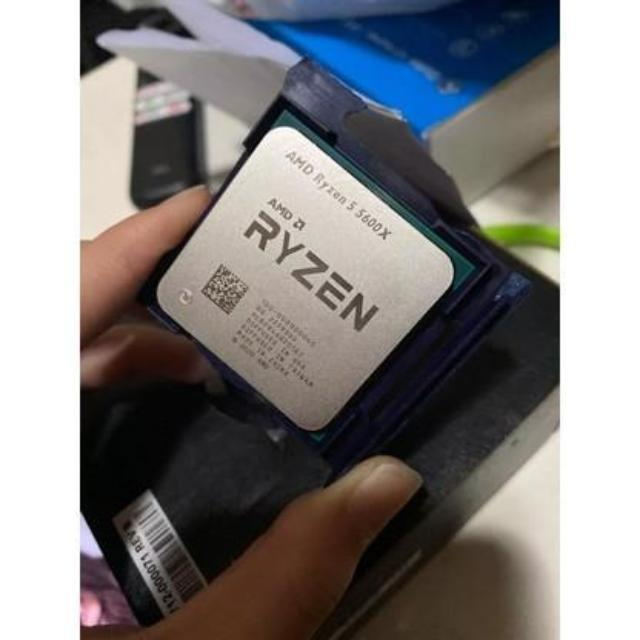CPU: (152, 122, 460, 436)
